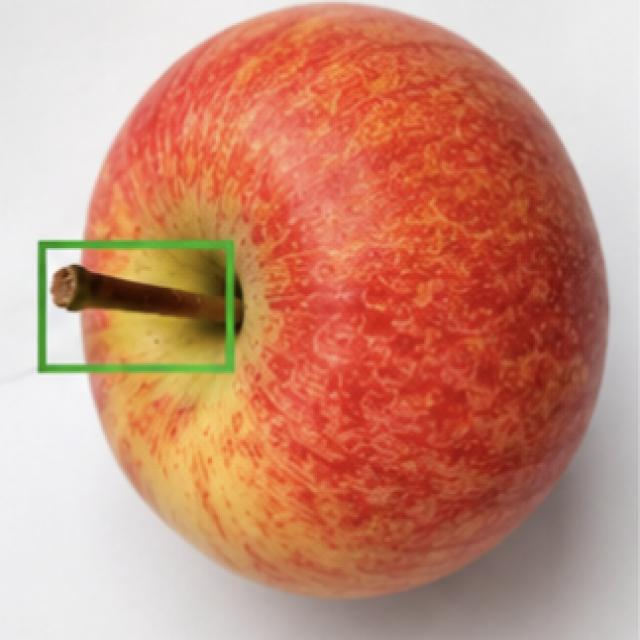Fruit-Stem-Detection: (44, 239, 235, 374), (55, 261, 237, 330)
